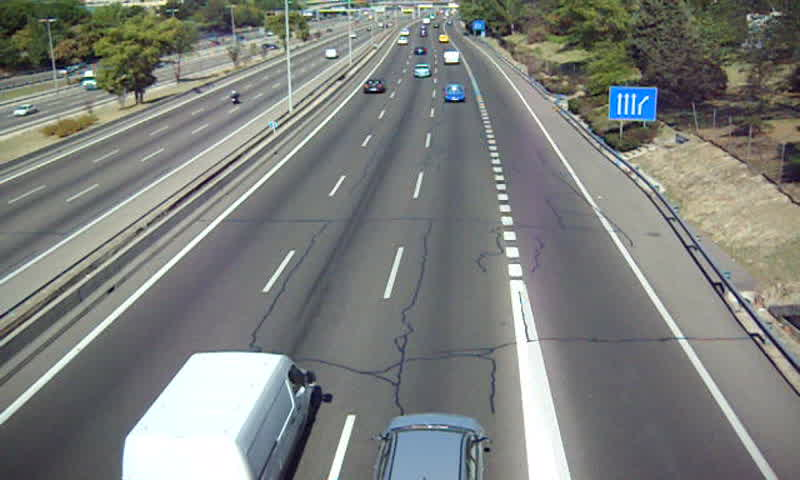car: (443, 84, 467, 104), (361, 79, 386, 96), (412, 63, 431, 78)
van: (122, 350, 317, 480), (442, 51, 461, 66)
